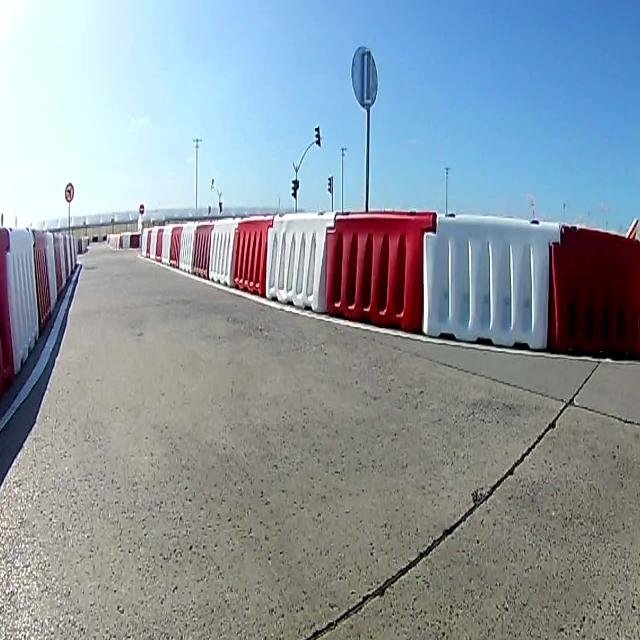soladonulmez: (66, 182, 74, 203)
